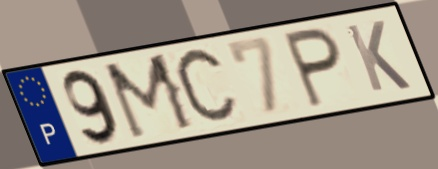7: (222, 32, 285, 120)
9: (59, 67, 122, 147)
C: (171, 43, 242, 131)
K: (341, 18, 414, 95)
M: (99, 50, 199, 143)
P: (280, 25, 345, 111)
